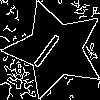I: (30, 24, 69, 70)
